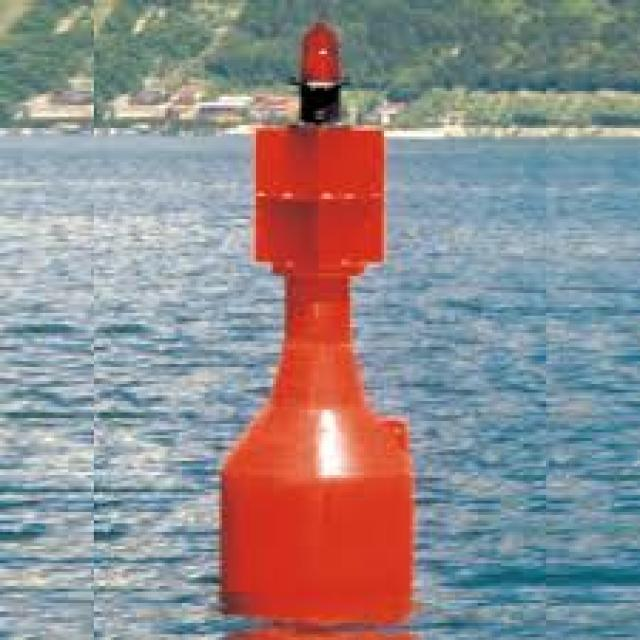buoy: (215, 22, 425, 630)
